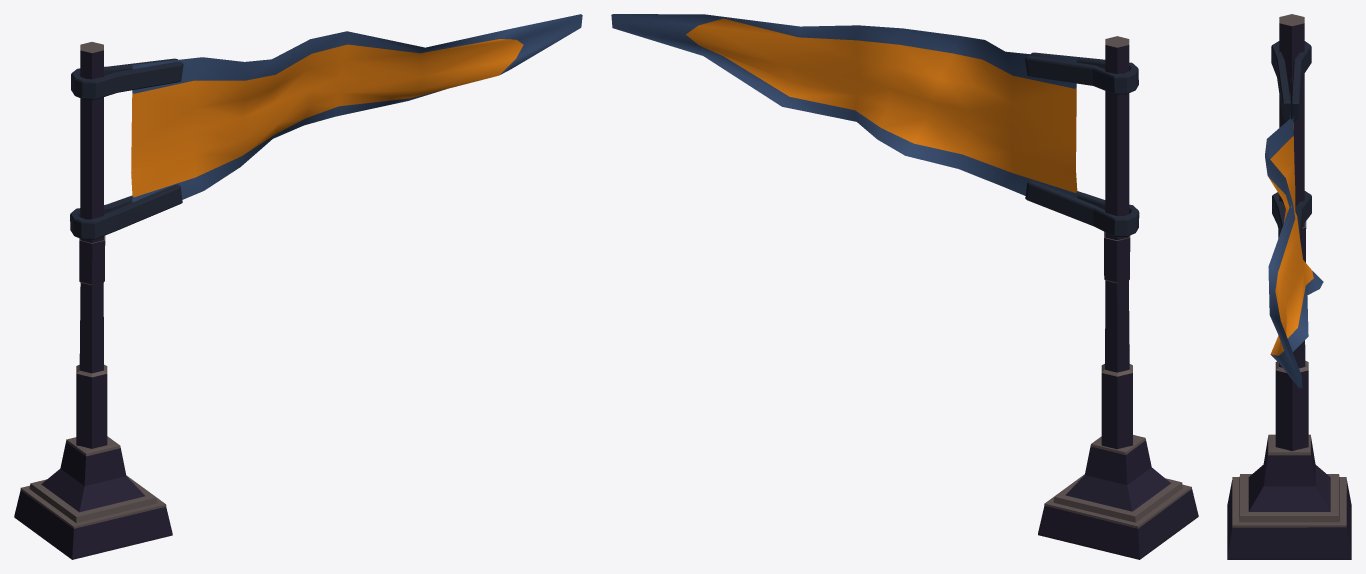
File: MCastle_Fixtures_02.FBX
3 renders of one model, left to right at view 1: azimuth 30°, elevation 25°; view 2: azimuth 150°, elevation 25°; view 3: azimuth 270°, elevation 25°, orthographic. The views are drawn at different scales.
Visible parts, largest first — view 1: MCastle_Fixtures_02_LOD0; view 2: MCastle_Fixtures_02_LOD0; view 3: MCastle_Fixtures_02_LOD0.
Part boxes in pixels (x1=…): MCastle_Fixtures_02_LOD0: x1=14, y1=14, x2=582, y2=559; MCastle_Fixtures_02_LOD0: x1=611, y1=14, x2=1198, y2=559; MCastle_Fixtures_02_LOD0: x1=1227, y1=14, x2=1351, y2=559.
Size of what is drawn, in the model's own units: 3.19 by 2.68 by 0.5893.
